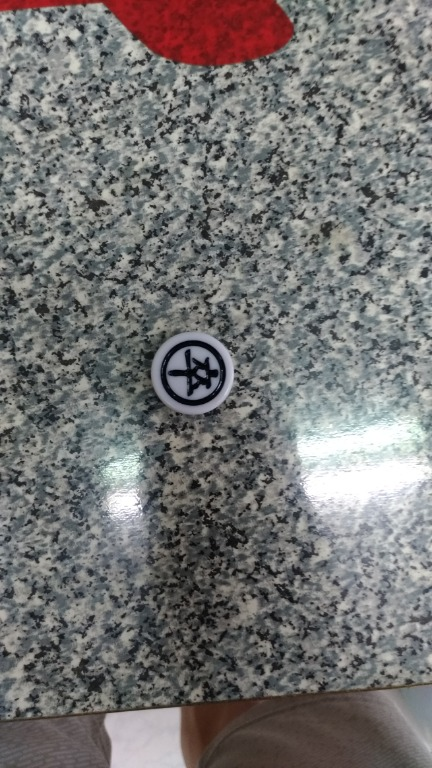b-pawn: (141, 325, 253, 426)
